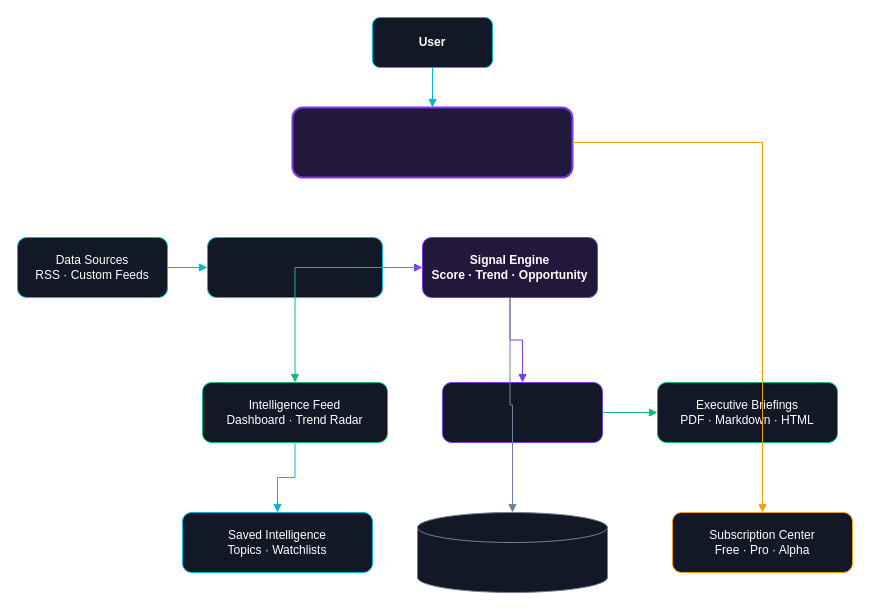
This 870x610 diagram has some shape labels left out. The box of each missing label's shape, as (x1, y1, x2, y2) in pixels:
AI Analyst Cited research: (442, 382, 602, 442)
Collect & Normalize Deduplicate · Extract entities: (206, 236, 382, 298)
DOST ALPHA AI Intelligence Terminal: (291, 106, 573, 178)
PostgreSQL + pgvector Signals · Reports · Embeddings: (416, 512, 608, 592)
